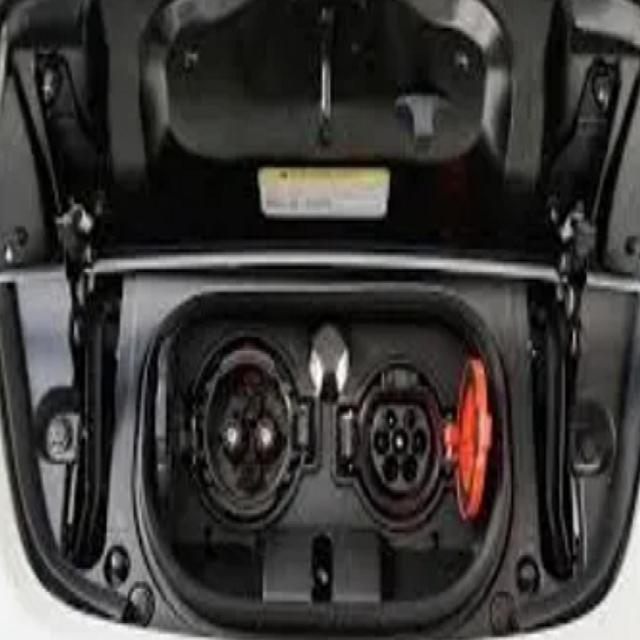CHAdeMO: (187, 352, 306, 542)
